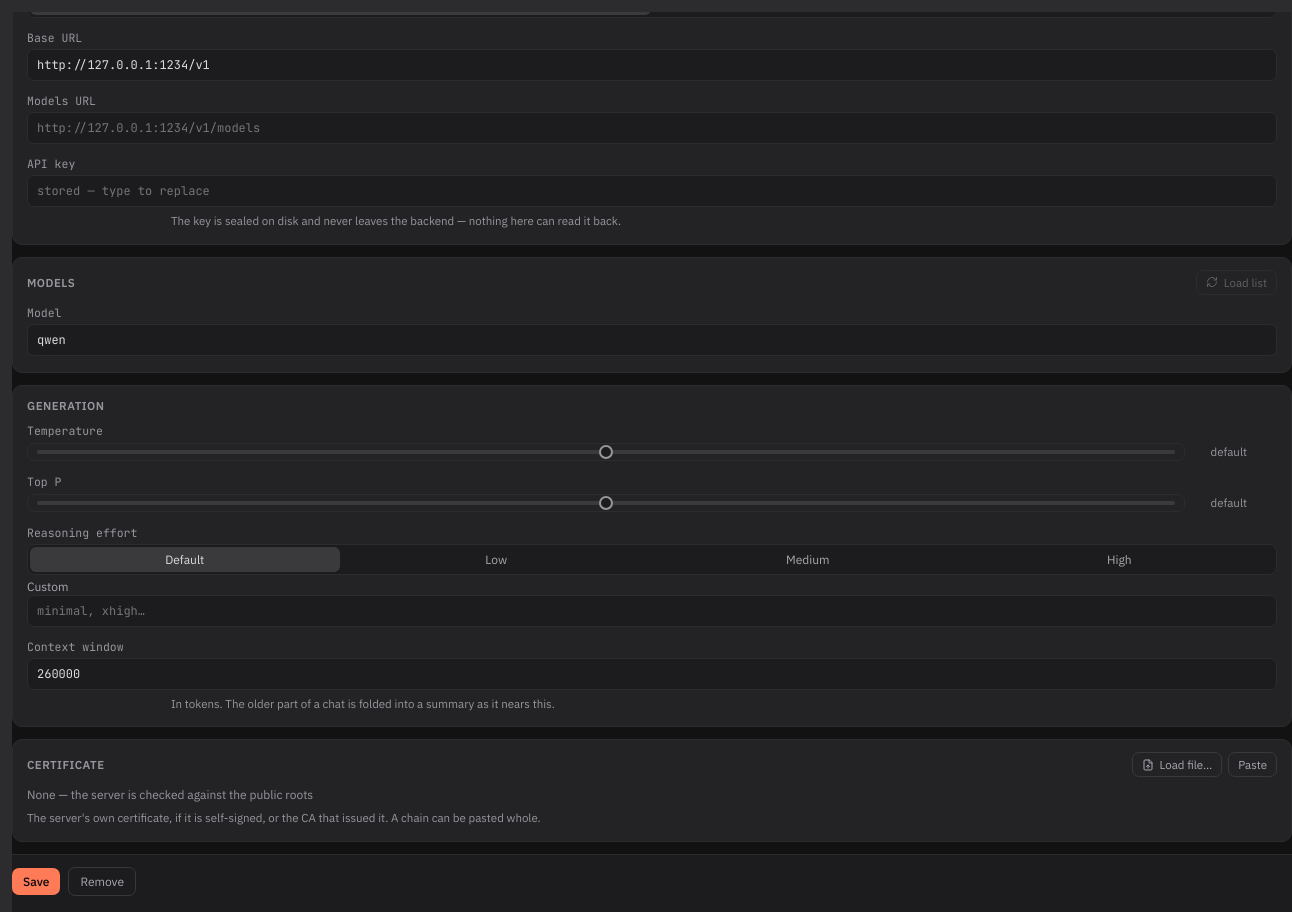
Scenario: editing a provider › the context window is 260k unless one was set, and takes digits only
The width and height of the screenshot is (1292, 912).
(page scrolled)
Step 1. Replace the text in the field below "Context window" with "128 000" → {"x": 652, "y": 674}, box [27,658,1277,690]
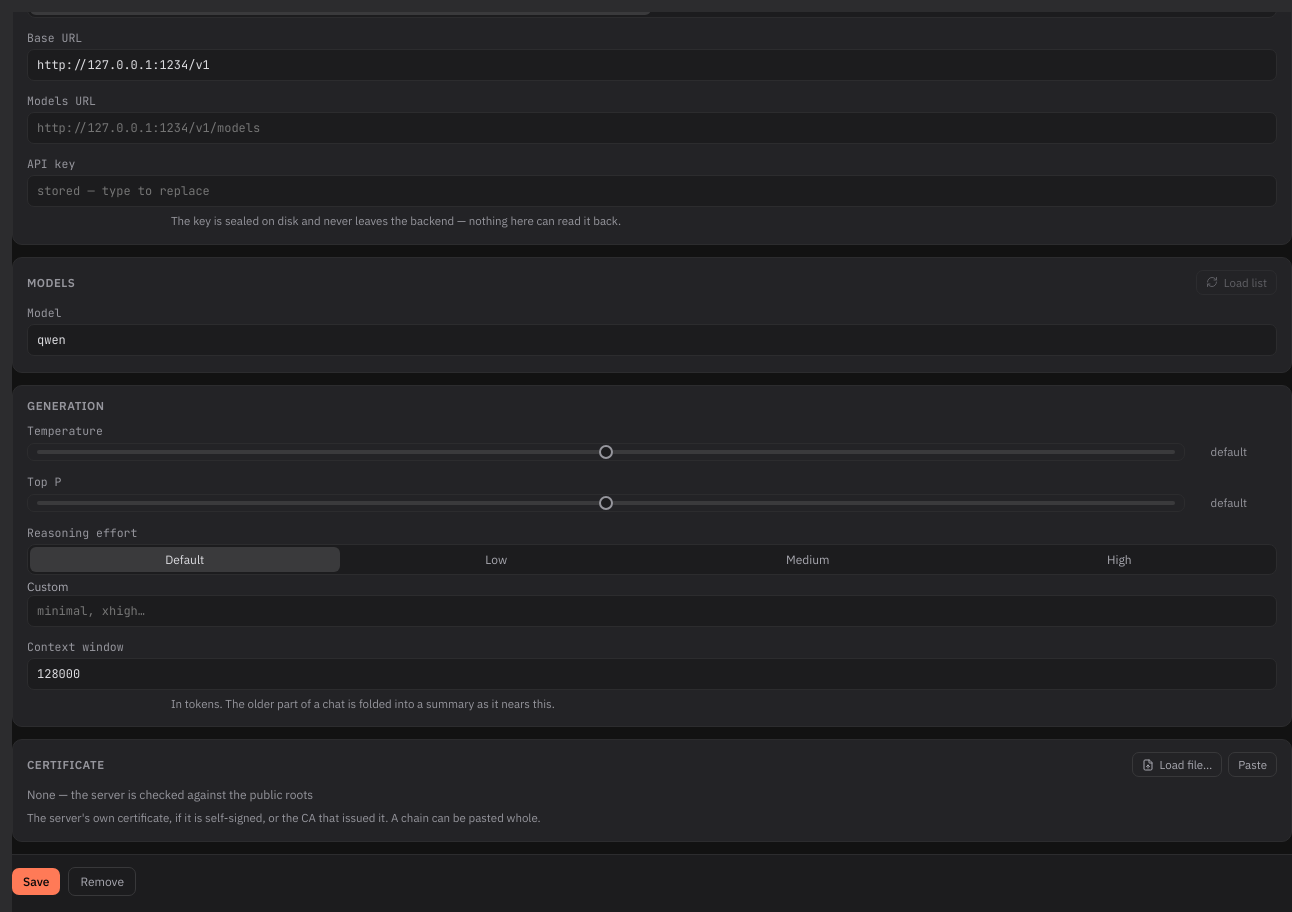
Result: the field below "Context window" holds "128000" at [27,658,1277,690]
